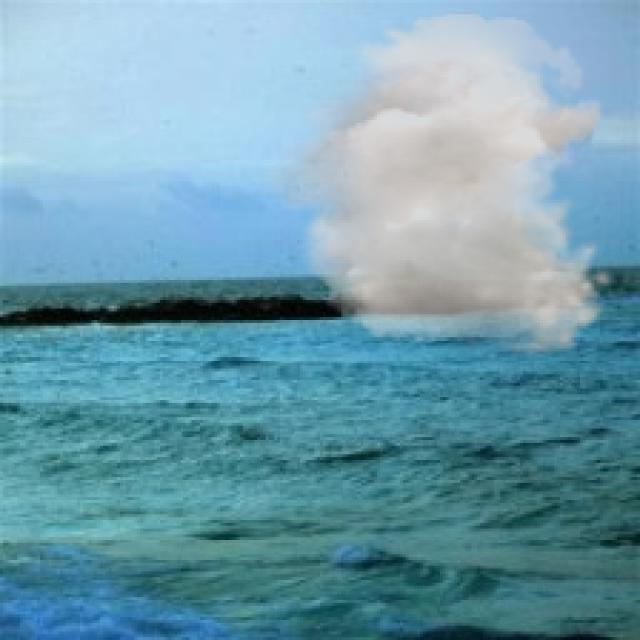Smoke: (255, 12, 614, 357)
